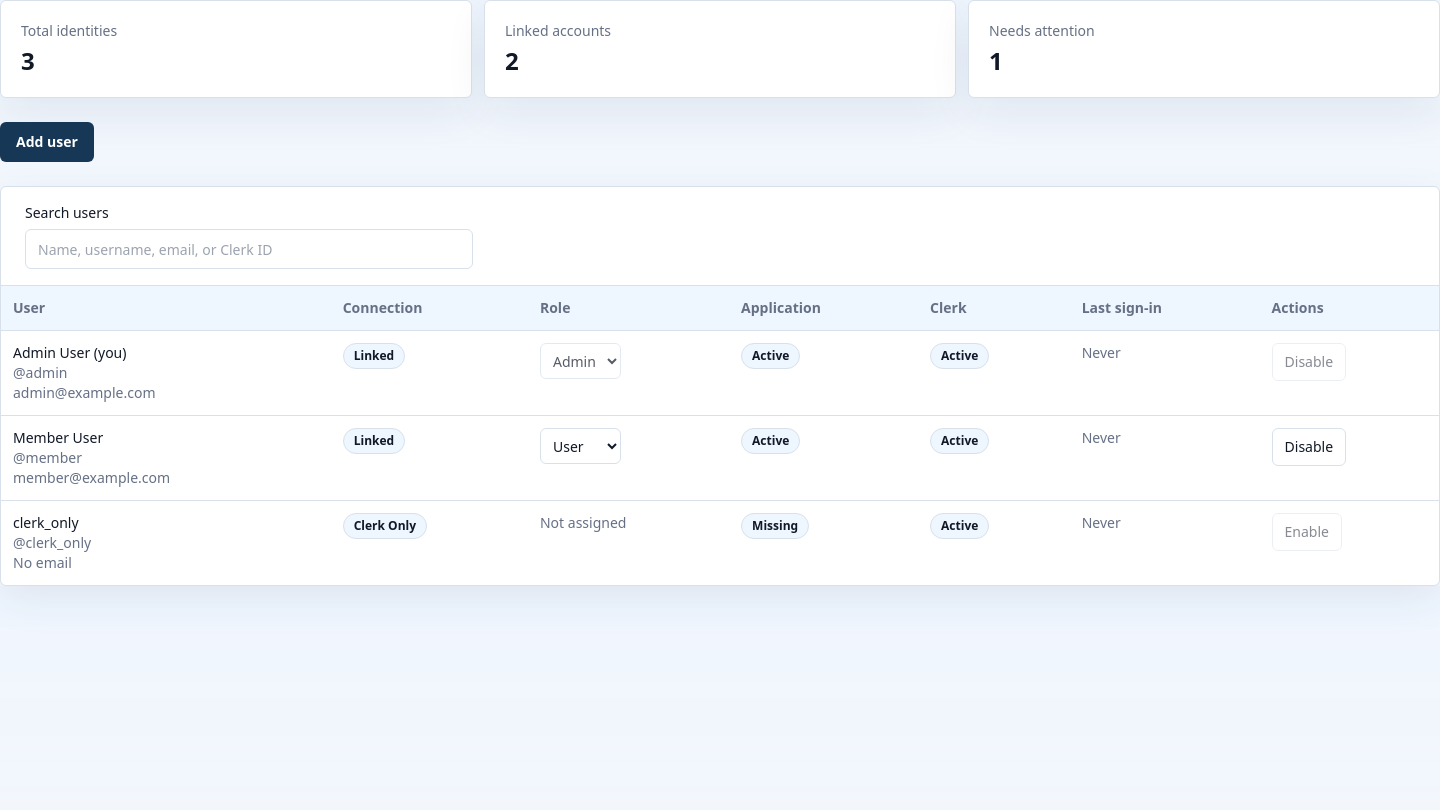
admin user directory › disables another linked user through the management endpoint
The width and height of the screenshot is (1440, 810).
Click the button "Disable" in the row of "Member User" at (1309, 447), box [1272,428,1346,466]
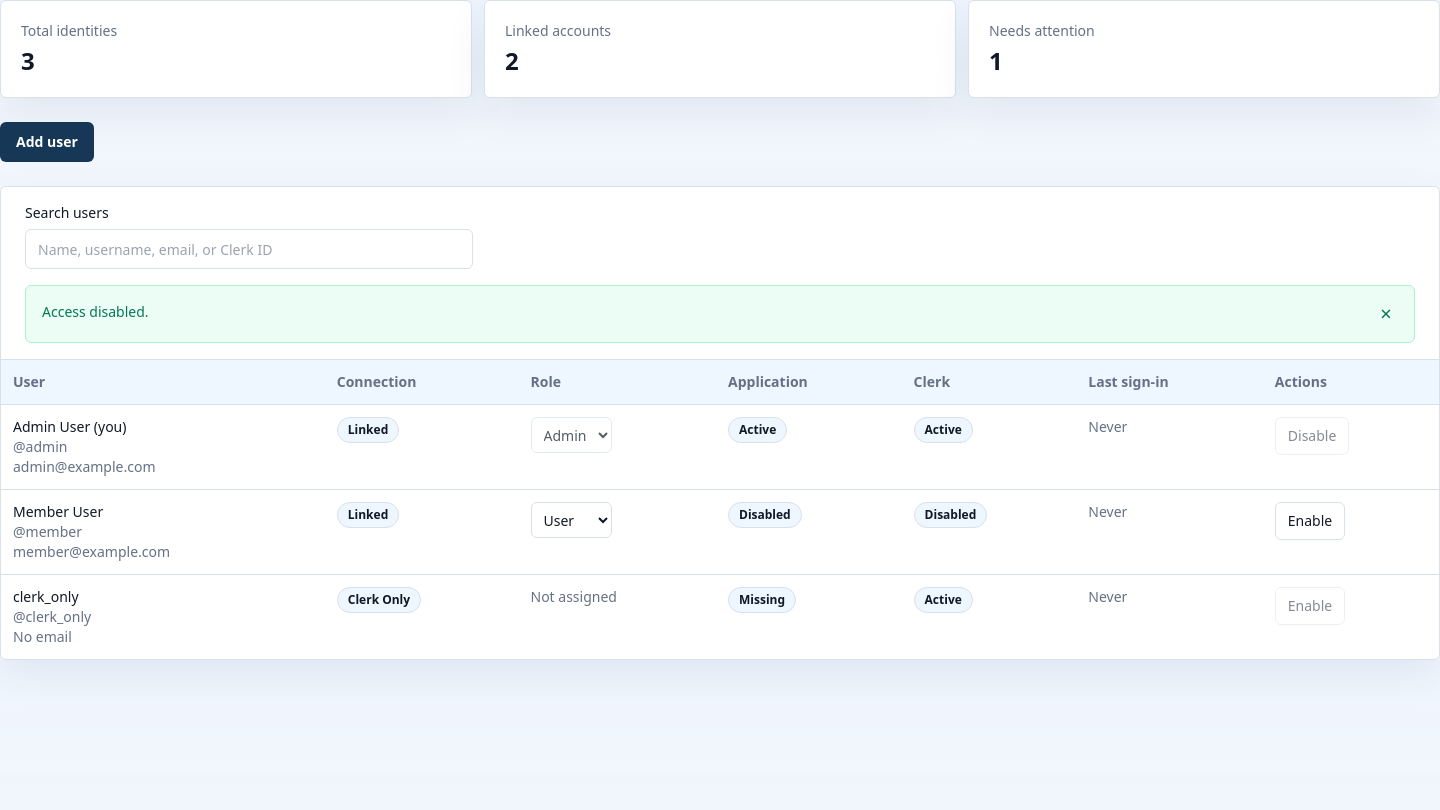
Now the text "Access disabled." is shown, box [42,302,149,322]
Now the button named "Dismiss message" is shown, box [1370,298,1402,330]
